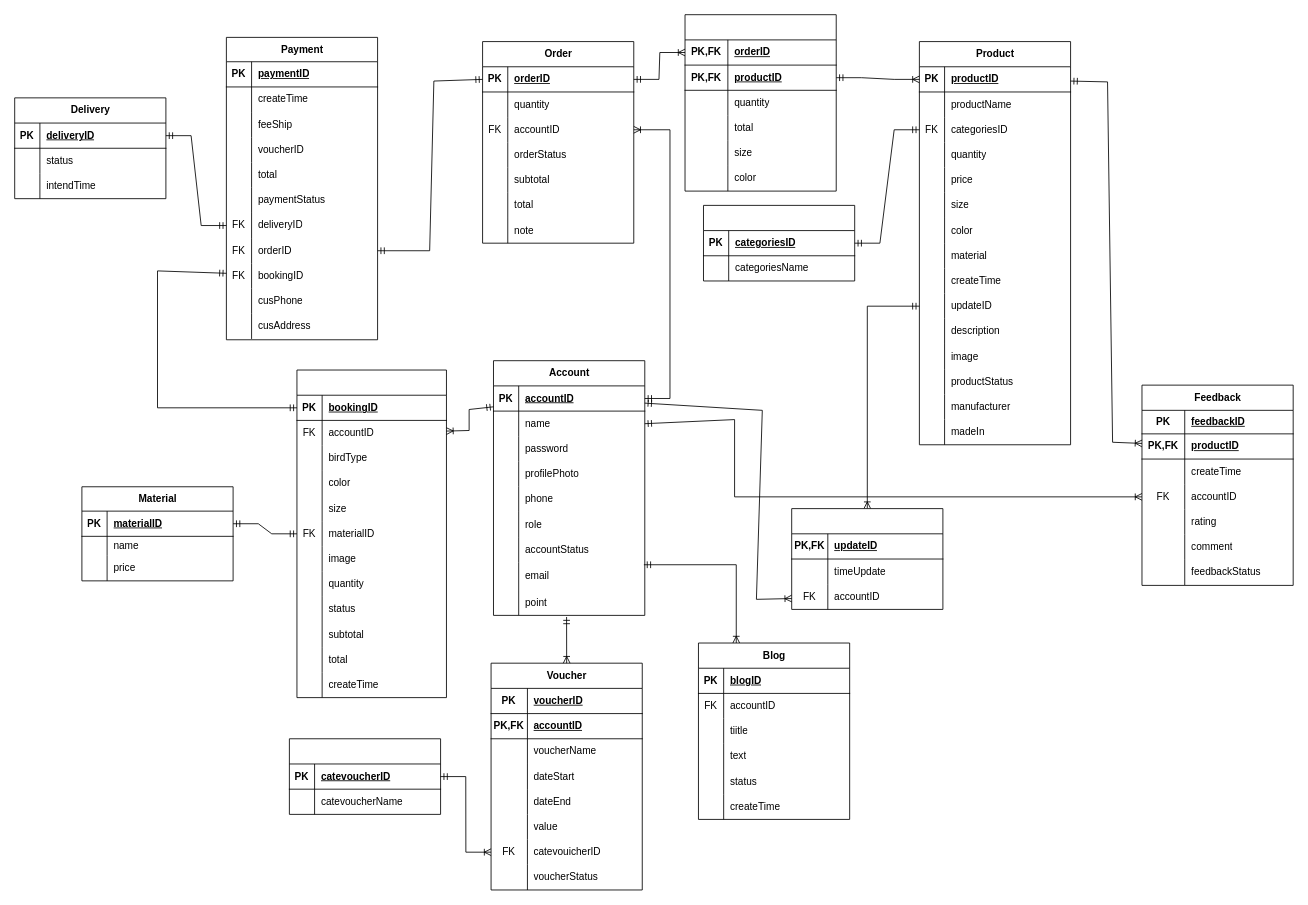
The diagram is 1308 pixels wide and 905 high, and some of its shapes have lost their labels. The shapes that lost their labels are listed below. From the top down, each one's box as (x1, y1, x2, y2) in pixels, then its label:
(684, 14, 836, 191): OrderDetail
(703, 205, 855, 281): Category
(296, 369, 446, 698): BookingRequest
(791, 508, 943, 609): UpdateProduct
(289, 738, 441, 814): CategoryVoucher
